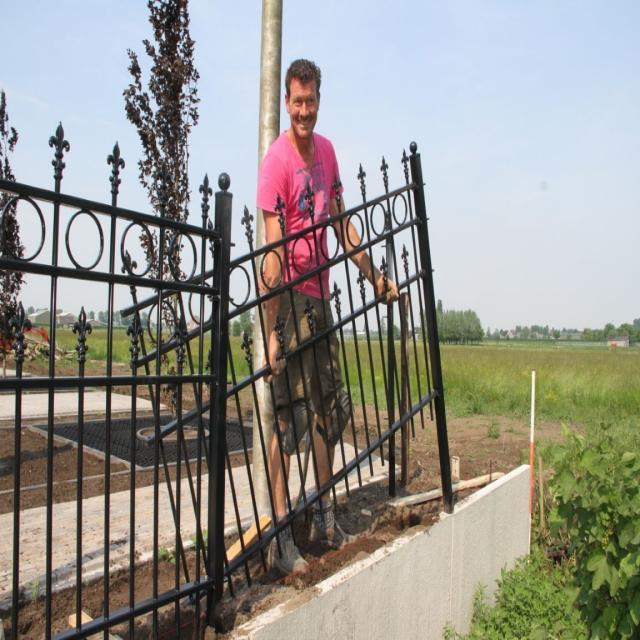fence line: (8, 133, 216, 628)
